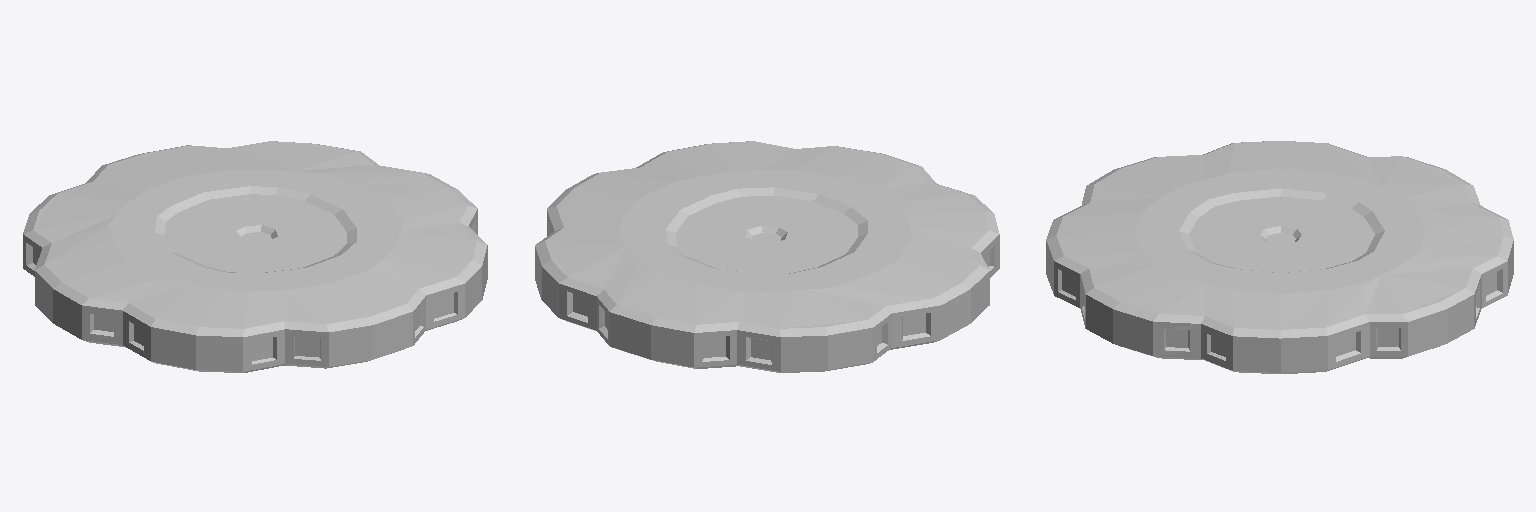
File: ProjectBeyondObj.obj
The picture shows the model from 3 angles: view 1: azimuth 30°, elevation 25°; view 2: azimuth 150°, elevation 25°; view 3: azimuth 270°, elevation 25°; orthographic projection.
Visible parts, largest first — view 1: pCube1; view 2: pCube1; view 3: pCube1.
Boxes of the visible parts, box(x1,y1,x2,y2) form: pCube1: box(23, 141, 487, 372); pCube1: box(535, 141, 999, 372); pCube1: box(1046, 141, 1513, 373).
Bounding box in the file's own units: 7.89 × 0.9385 × 7.88.